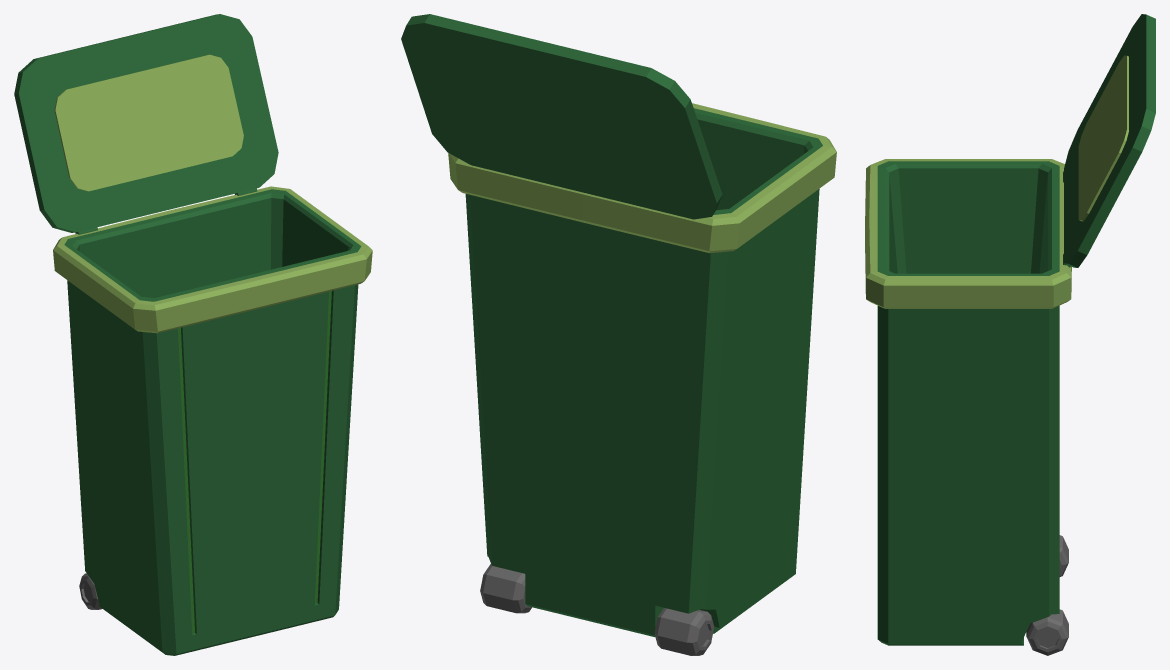
File: bilun-rubbish bin.fbx
3 views of the same model, side by side, from view 1: azimuth 30°, elevation 25°; view 2: azimuth 150°, elevation 25°; view 3: azimuth 270°, elevation 25° (orthographic). The views are drawn at different scales.
Visible parts, largest first — view 1: Cube; view 2: Cube, Cylinder; view 3: Cube, Cylinder.
Boxes of the visible parts, x1,y1,x2,y2 form: Cube: (14,14,372,655); Cube: (401,14,836,636); Cylinder: (480,564,714,655); Cube: (865,14,1155,645); Cylinder: (1026,535,1068,655).
Size of the model in its own units: 101 by 209 by 100.
